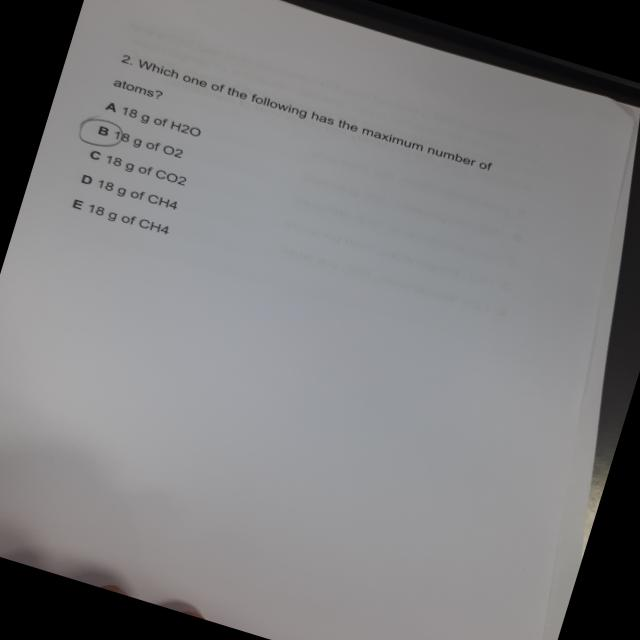B: (70, 110, 128, 154)
